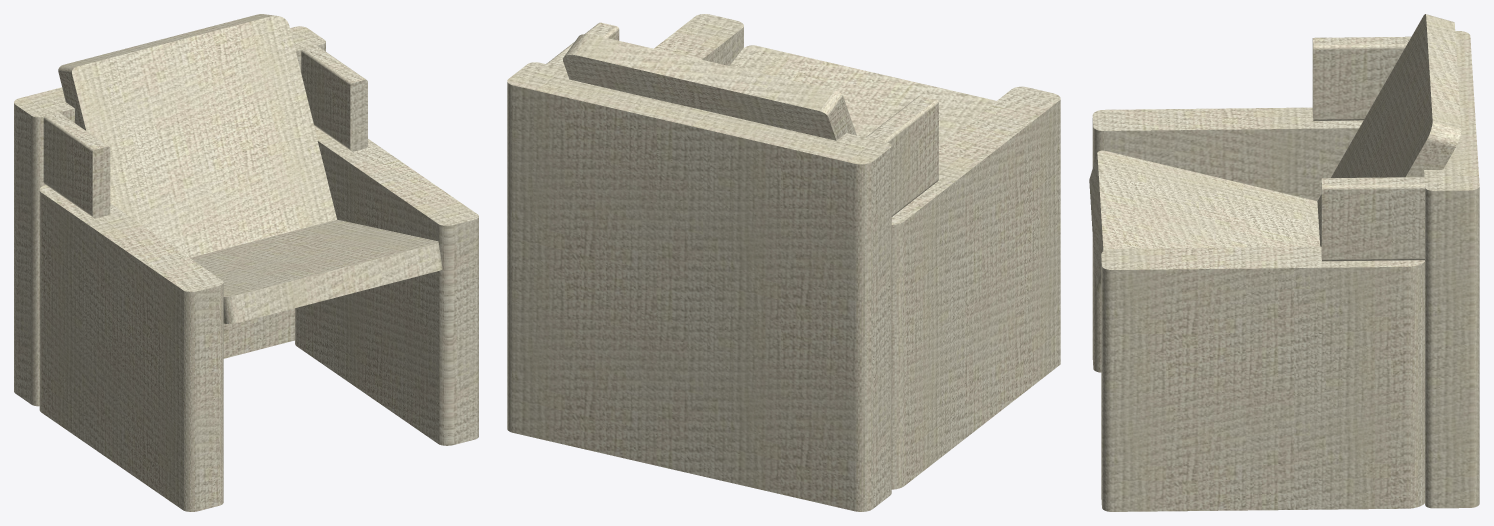
File: armchair.dae
The picture shows the model from 3 angles, left to right: view 1: azimuth 30°, elevation 25°; view 2: azimuth 150°, elevation 25°; view 3: azimuth 270°, elevation 25°; orthographic projection. The views are drawn at different scales.
Parts seen in each view (by area): view 1: skpf836 (×5); view 2: skpf836 (×5); view 3: skpf836 (×5).
Boxes of the visible parts, x1=… form: skpf836 (×5): x1=14, y1=14, x2=478, y2=511; skpf836 (×5): x1=507, y1=14, x2=1060, y2=511; skpf836 (×5): x1=1089, y1=14, x2=1479, y2=511.
Size of the model in its own units: 82.62 by 83.34 by 84.47.
1 material, 1 textured.
